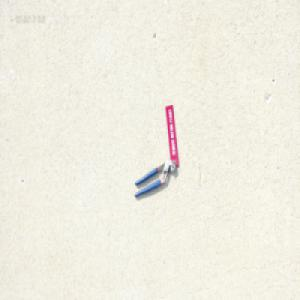Label: (165, 103, 179, 165)
Pliers: (133, 160, 176, 197)
